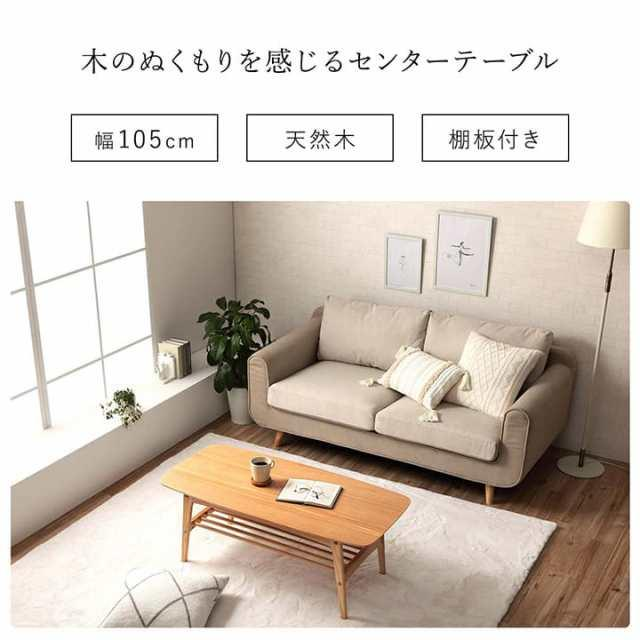natural desk: (161, 442, 414, 619)
natural sofa: (247, 290, 577, 501)
